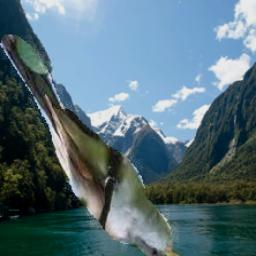Cuckoo: (0, 35, 183, 256)
